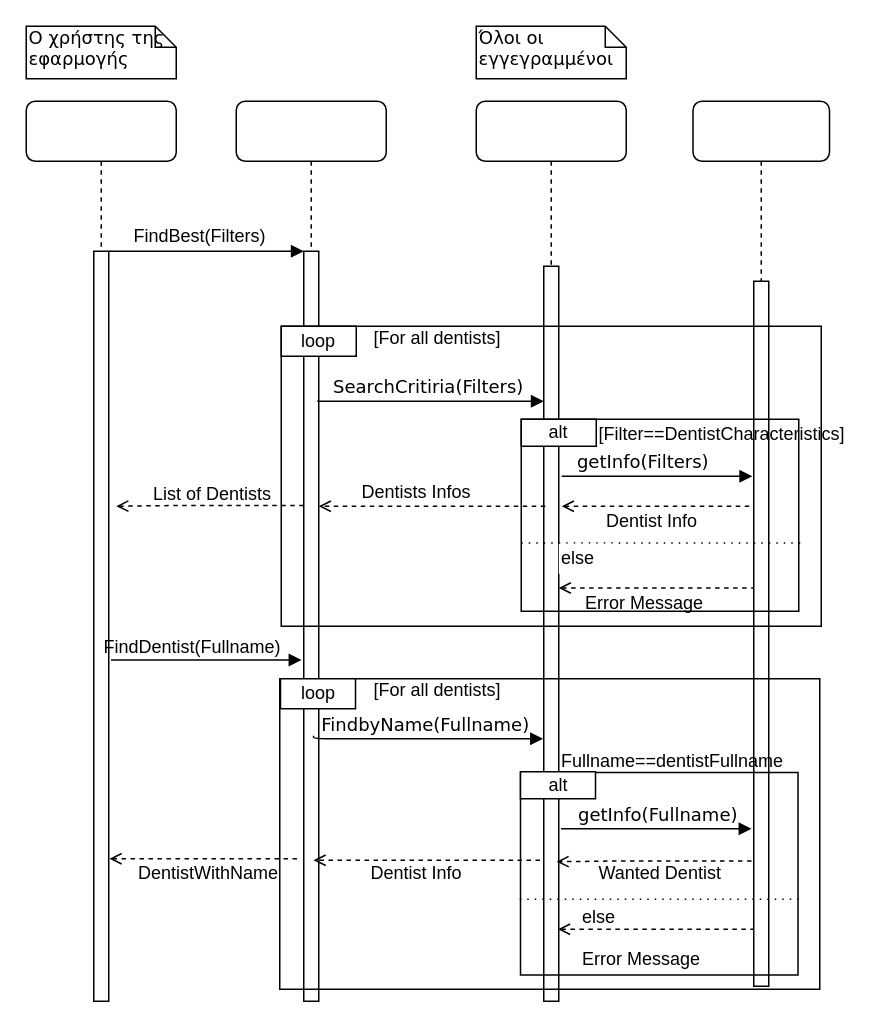
The diagram is 893 pixels wide and 1028 high, and some of its shapes have lost their labels. Each missing label, with the box of its shape:
:Οδοντίατρος: (475, 100, 626, 1001)
:Στοιχεία Οδοντιάτρου: (692, 100, 830, 161)
:Σύστημα: (235, 100, 386, 1001)
actor:Πελάτης: (25, 100, 176, 1001)
